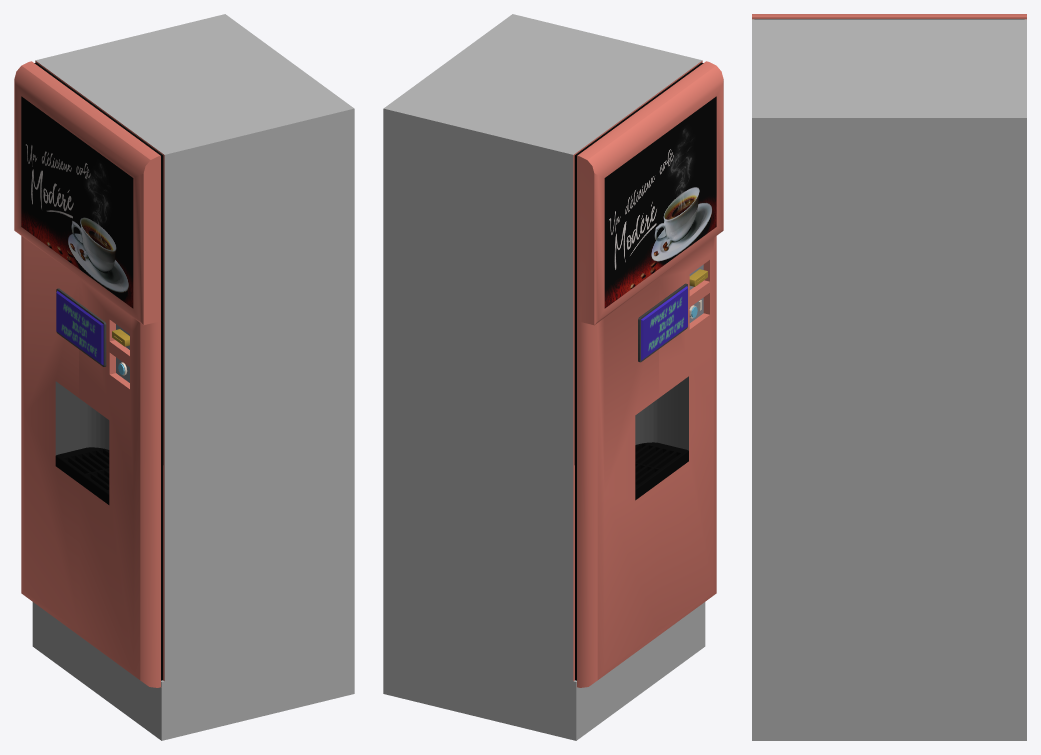
Rendered from machine.glb.
3 renders of one model, left to right at view 1: azimuth 30°, elevation 25°; view 2: azimuth 150°, elevation 25°; view 3: azimuth 270°, elevation 25°, orthographic. The views are drawn at different scales.
Parts seen in each view (by area): view 1: Machine, Screen, Plaque; view 2: Machine, Screen, Plaque; view 3: Machine.
Part boxes in pixels (x1,y1,x2,y2): Machine: [14, 14, 354, 740]; Screen: [56, 288, 106, 366]; Plaque: [55, 447, 109, 504]; Machine: [383, 14, 723, 740]; Screen: [638, 283, 687, 362]; Plaque: [635, 442, 688, 500]; Machine: [752, 14, 1026, 740].
Bounding box in the file's own units: 1.49 × 3.89 × 1.56.
Materials: 12 (2 with a texture image).
